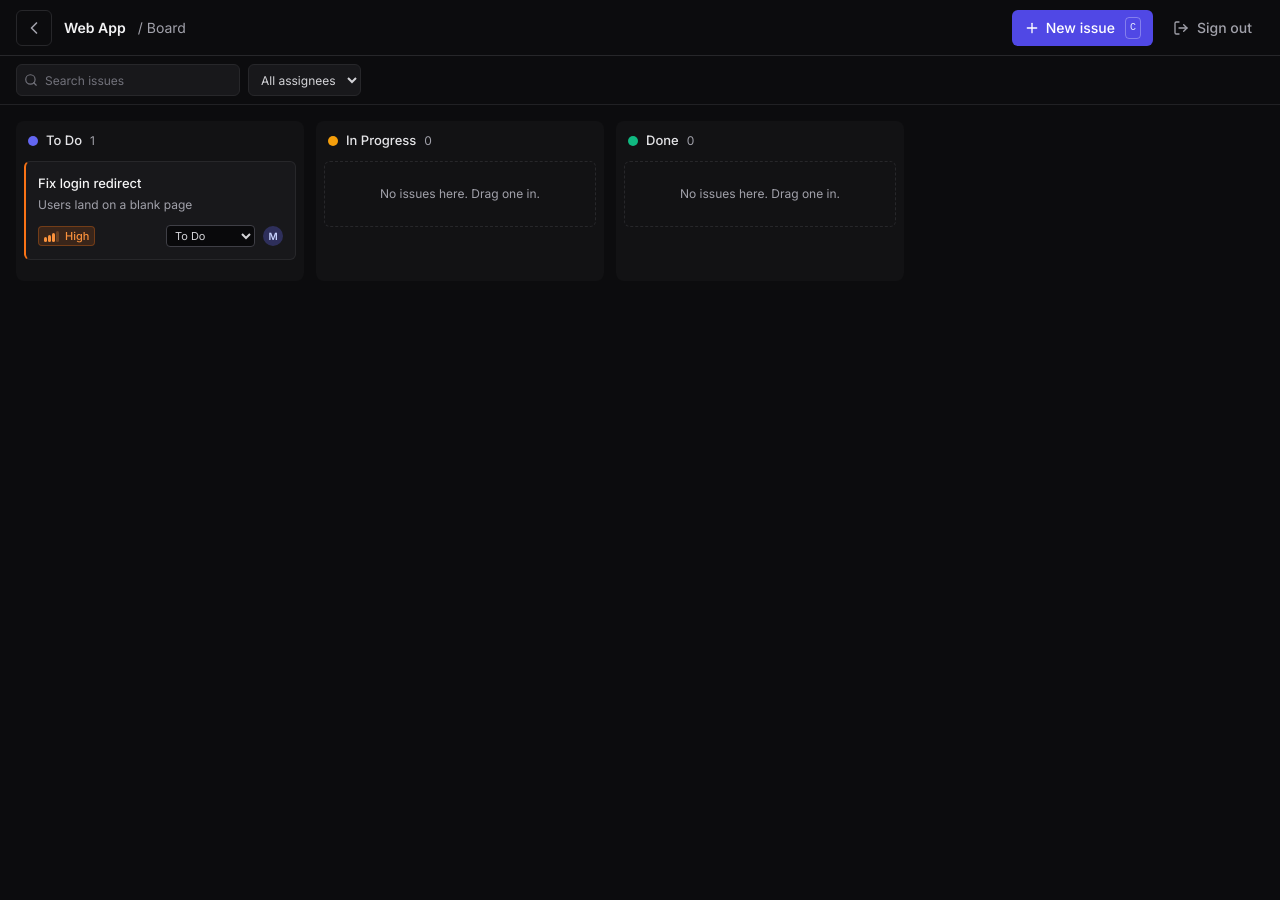
BoardClient › requires a title, then creates the issue with defaults and an assignee
This screenshot has width=1280, height=900.
expect the button "Fix login redirect" is shown: met, box [38,174,283,193]
Click the button "New issue C" at (1082, 28), box [1012,10,1153,46]
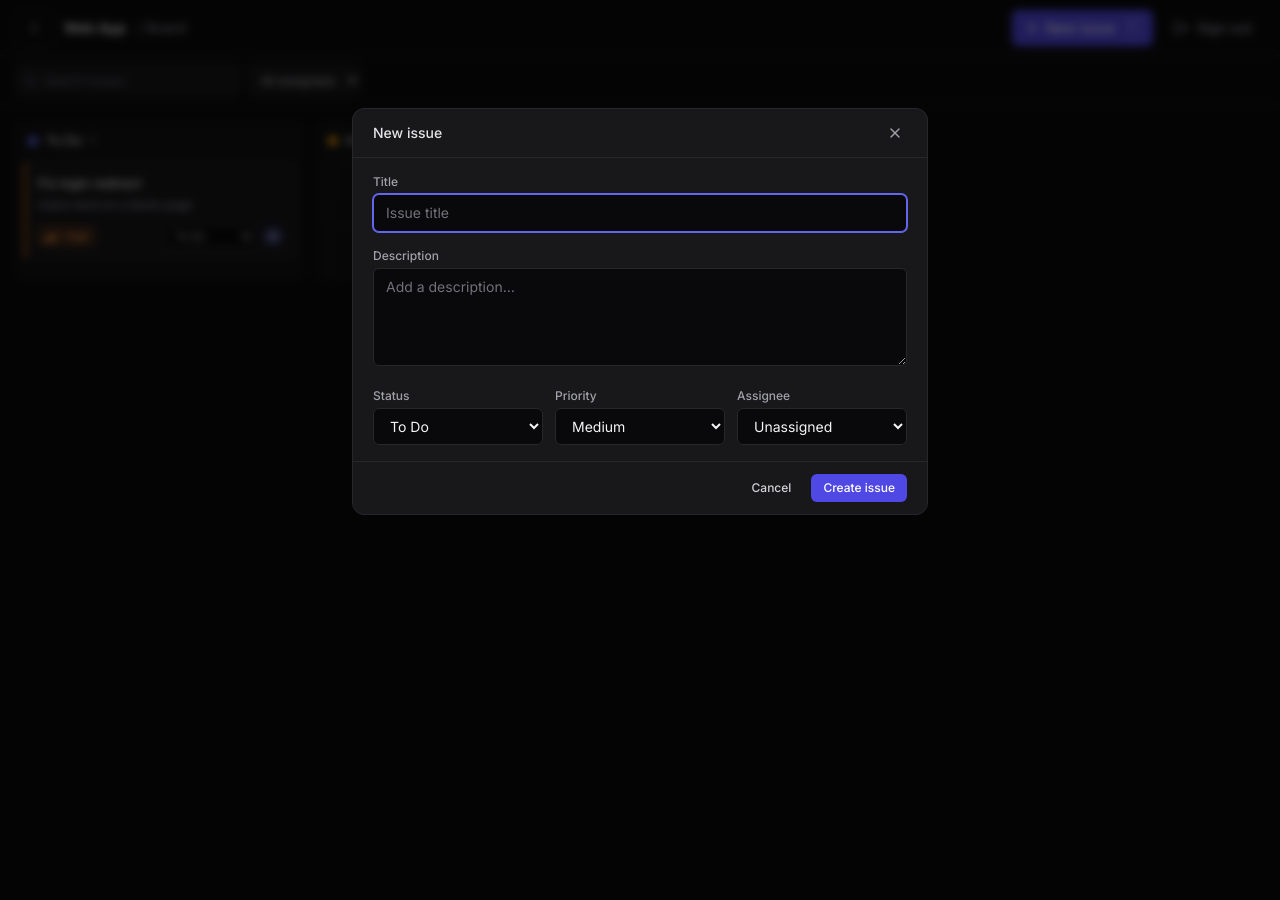
Click the button "Create issue" at (859, 488), box [811,474,907,502]
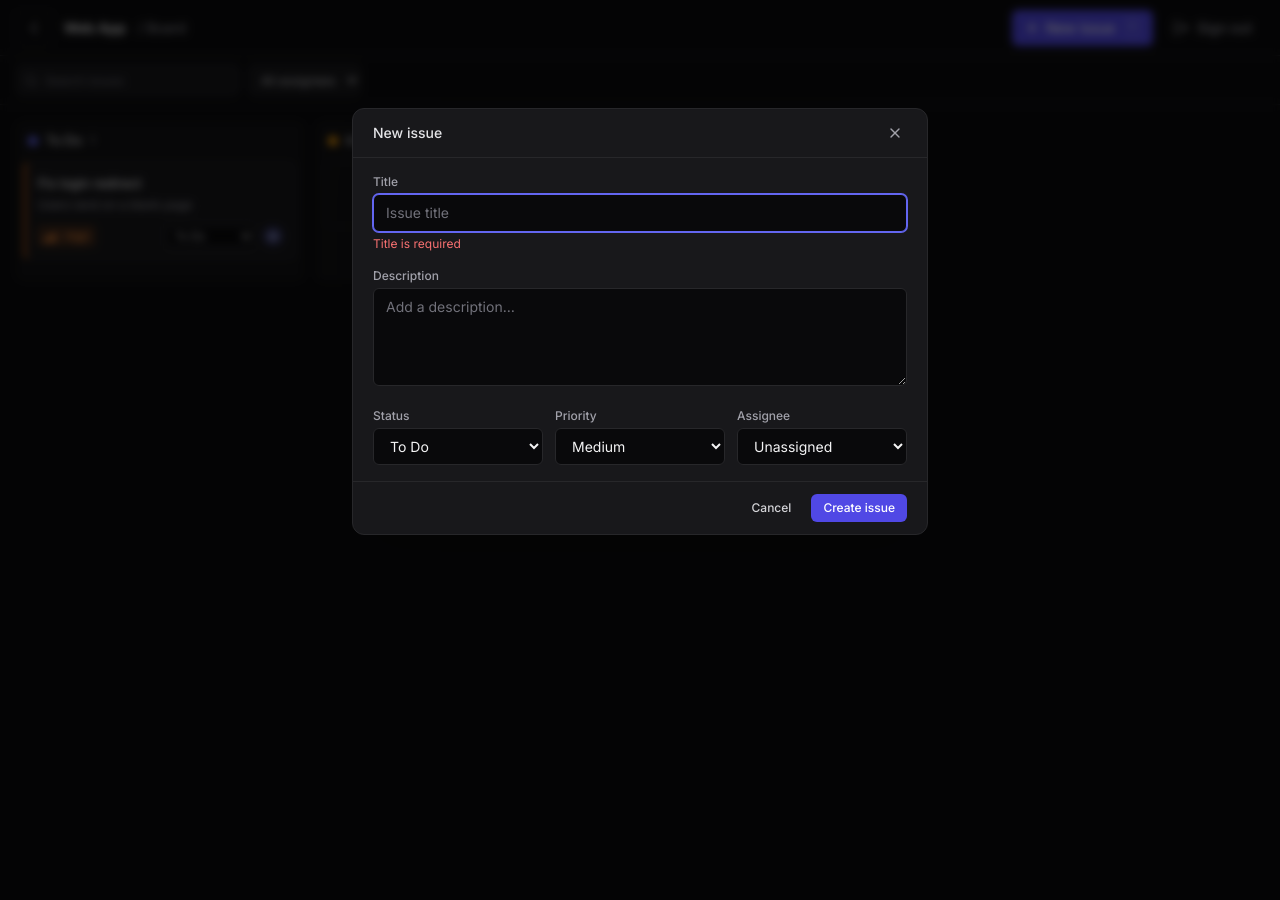
expect the message reads "Title is required": met, box [373,236,461,251]
Type "Add dark mode" into the field labelled "Title" at (640, 213), box [373,194,907,232]
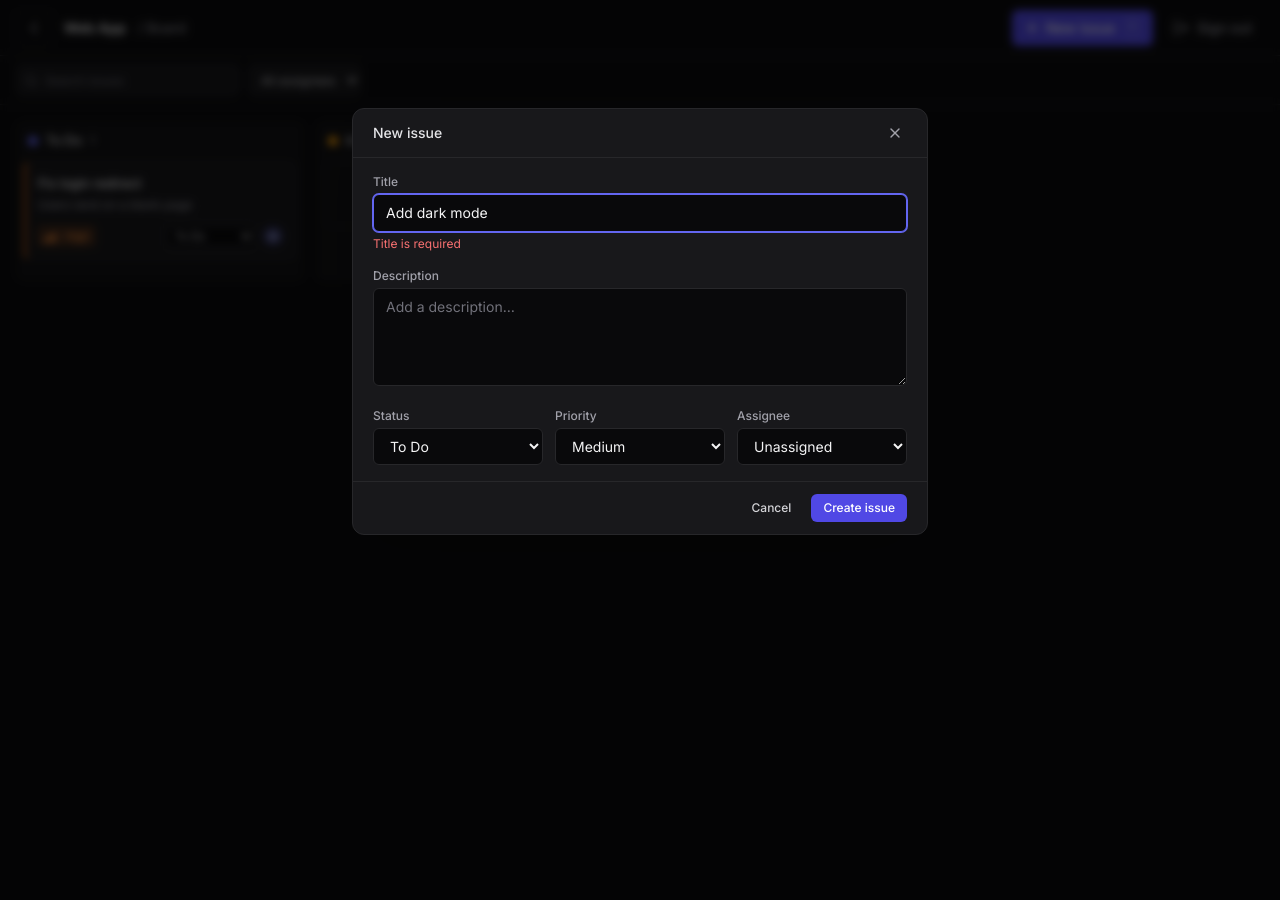
expect the dropdown labelled "Status" shows "To Do": met, box [373,428,543,465]
expect the dropdown labelled "Priority" shows "Medium": met, box [555,428,725,465]
Select "Sam Ortiz" in the dropdown labelled "Assignee" at (822, 446), box [737,428,907,465]
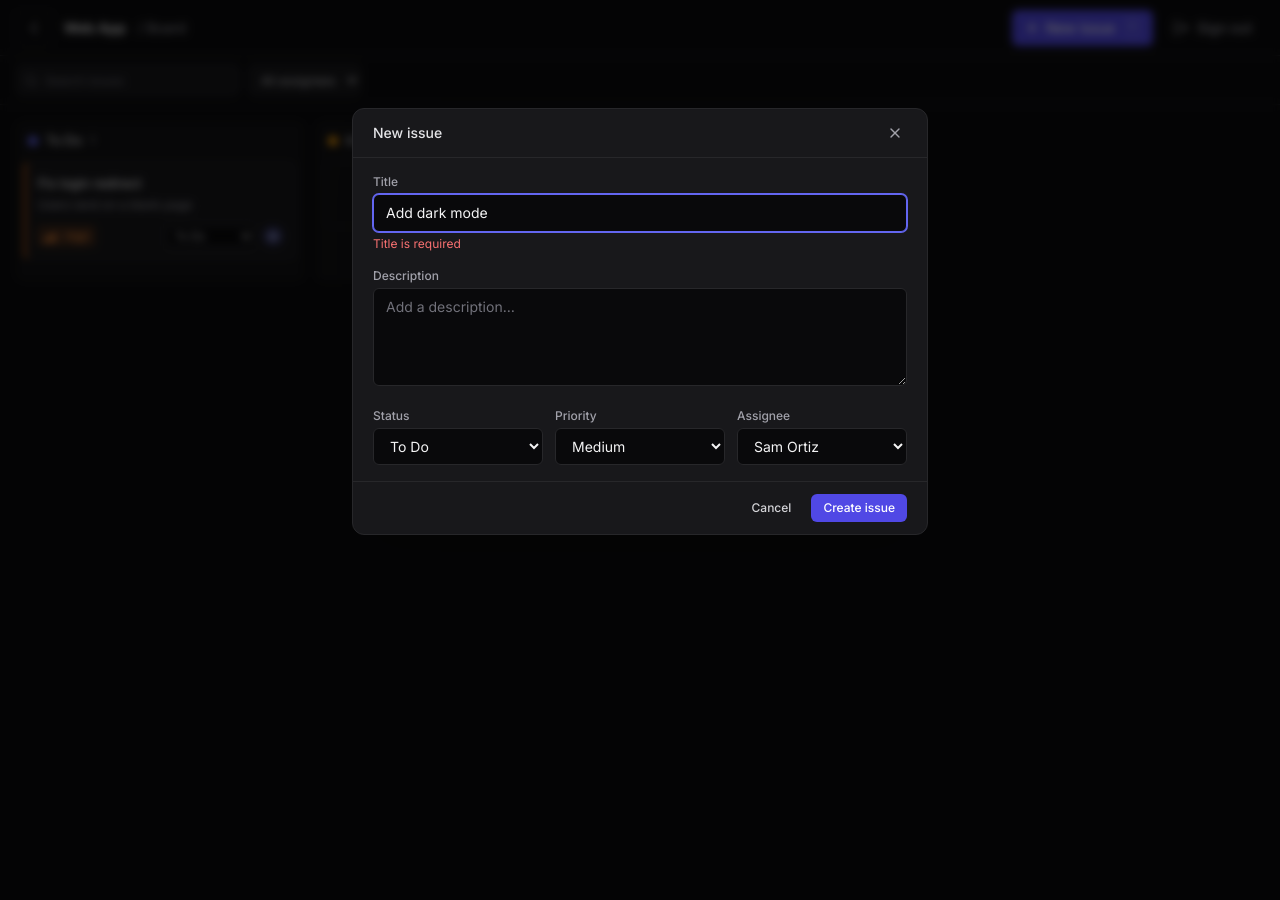
Click the button "Create issue" at (859, 508), box [811,494,907,522]
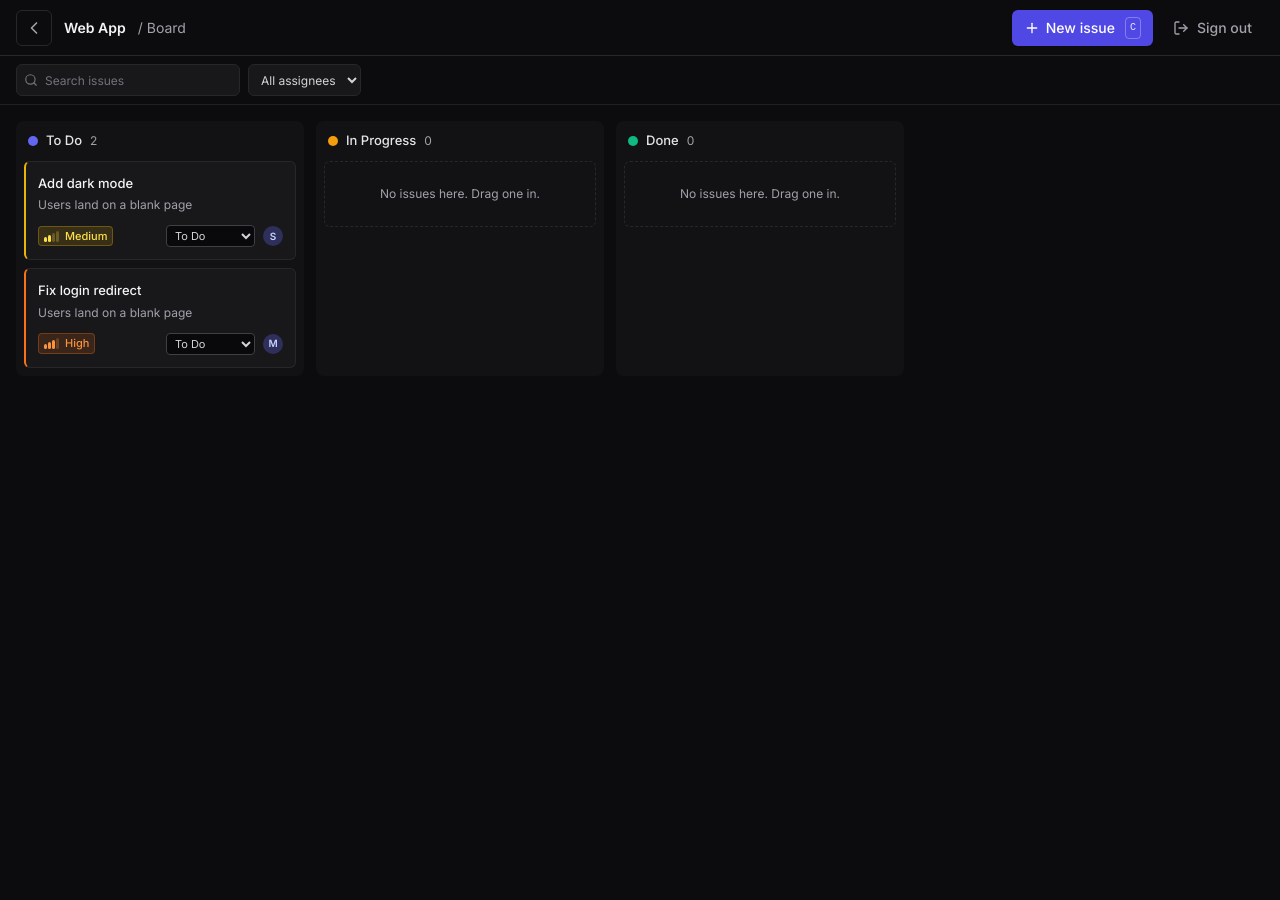
expect the dialog is gone: met
expect the button "Add dark mode" is shown: met, box [38,174,283,193]
